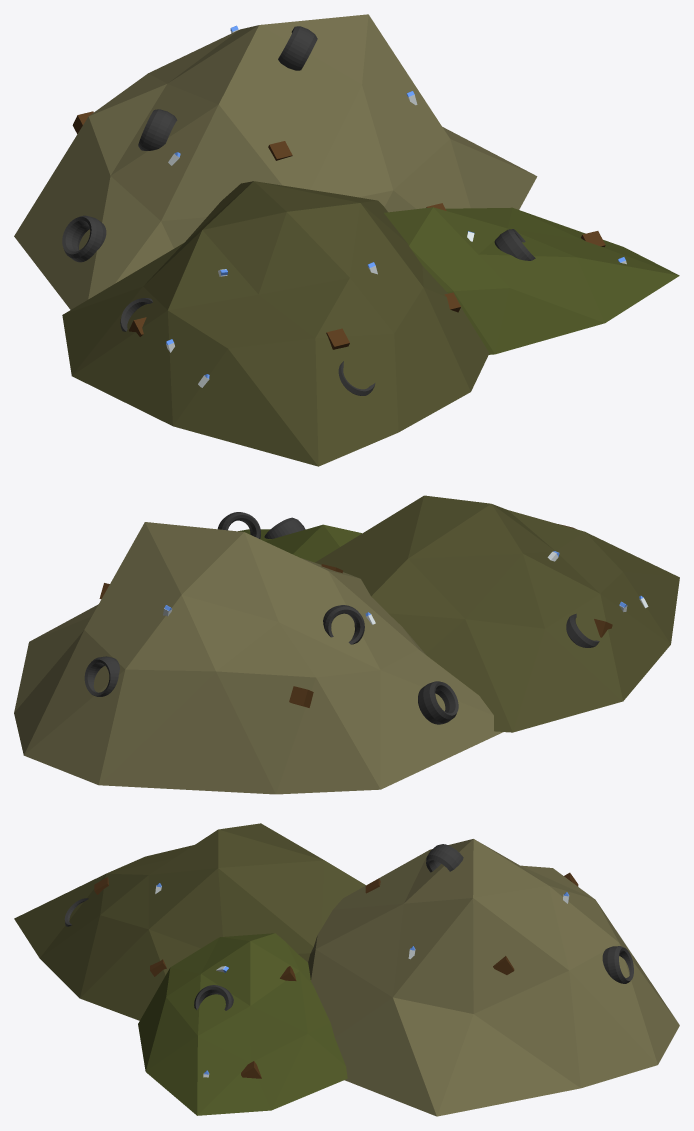
Rendered from Trash2.fbx.
3 renders of one model, top to bottom at view 1: azimuth 30°, elevation 25°; view 2: azimuth 150°, elevation 25°; view 3: azimuth 270°, elevation 25°, orthographic. The views are drawn at different scales.
Visible parts, largest first — view 1: Icosphere.003; view 2: Icosphere.003; view 3: Icosphere.003.
Part boxes in pixels (<box>): Icosphere.003: <box>14,14,679,466</box>; Icosphere.003: <box>14,495,679,794</box>; Icosphere.003: <box>14,823,679,1116</box>.
Size of the model in its own units: 7114 by 2525 by 8529.
